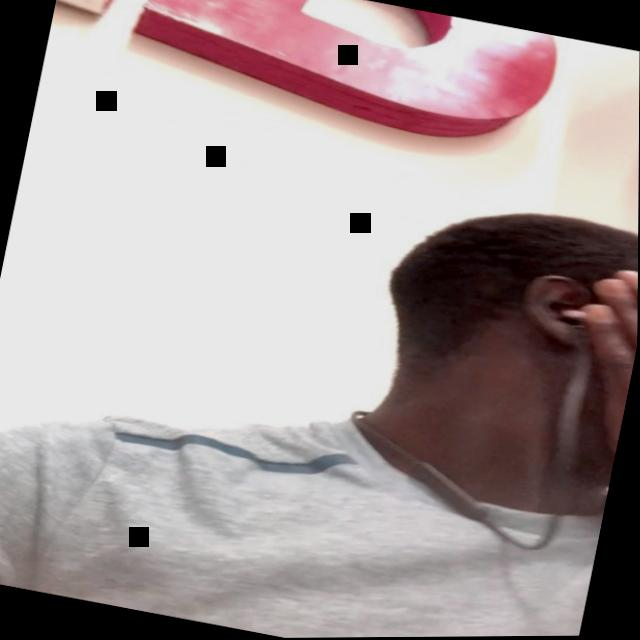NO-Mask: (518, 238, 639, 496)
